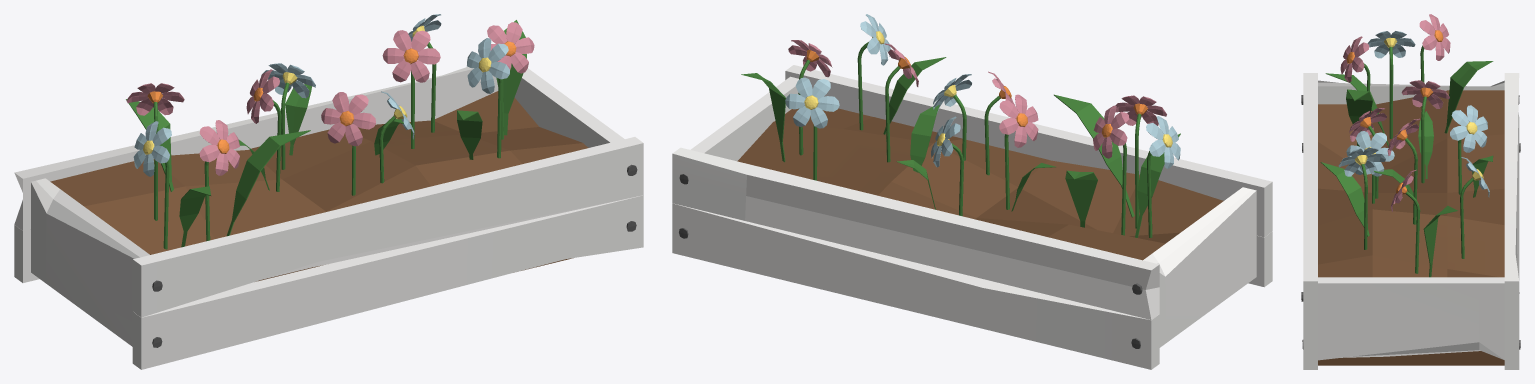
The model's file is Garden_1.glb.
The picture shows the model from 3 angles, left to right: view 1: azimuth 30°, elevation 25°; view 2: azimuth 150°, elevation 25°; view 3: azimuth 270°, elevation 25°; orthographic projection. The views are drawn at different scales.
Visible parts, largest first — view 1: Garden_1; view 2: Garden_1; view 3: Garden_1.
Boxes of the visible parts, x1,y1,x2,y2 form: Garden_1: [14, 14, 643, 369]; Garden_1: [672, 14, 1272, 369]; Garden_1: [1301, 14, 1520, 369].
Bounding box in the file's own units: 2.04 × 0.8301 × 0.911.
1 material, 1 textured.
